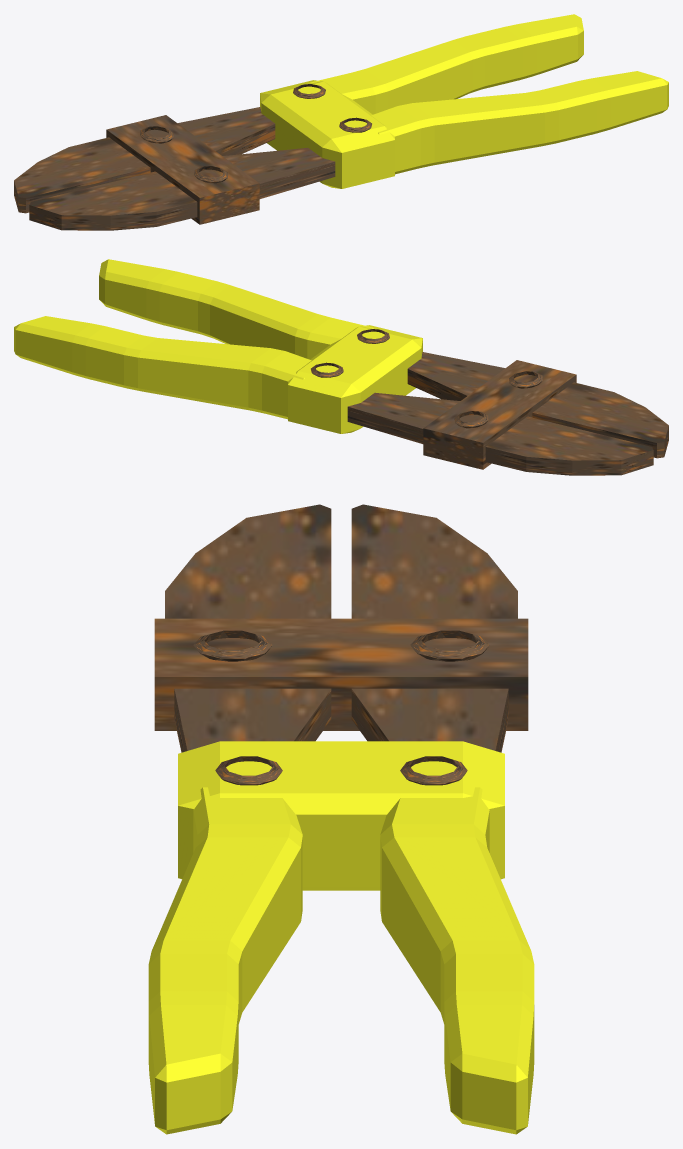
Rendered from BoltCutters.fbx.
The picture shows the model from 3 angles, top to bottom: view 1: azimuth 30°, elevation 25°; view 2: azimuth 150°, elevation 25°; view 3: azimuth 270°, elevation 25°; orthographic projection. The views are drawn at different scales.
Visible parts, largest first — view 1: Cube, Cube.001, Cube.003, Cube.002, Cube.004, Cube.005, Icosphere.002, Icosphere.003; view 2: Cube.001, Cube, Cube.004, Cube.002, Cube.003, Cube.005, Icosphere.003, Icosphere.002; view 3: Cube, Cube.001, Cube.005, Cube.002, Cube.003, Cube.004, Icosphere.002, Icosphere.003, Icosphere, Icosphere.001.
Boxes of the visible parts, x1,y1,x2,y2 form: Cube: (371, 71, 668, 174); Cube.001: (309, 14, 583, 114); Cube.003: (29, 147, 335, 230); Cube.002: (260, 80, 394, 188); Cube.004: (14, 107, 275, 213); Cube.005: (106, 115, 259, 224); Icosphere.002: (140, 126, 173, 143); Icosphere.003: (194, 166, 228, 183); Cube.001: (14, 316, 311, 419); Cube: (99, 259, 373, 359); Cube.004: (347, 392, 653, 475); Cube.002: (288, 325, 422, 433); Cube.003: (407, 352, 668, 458); Cube.005: (423, 360, 576, 469); Icosphere.003: (509, 371, 542, 388); Icosphere.002: (454, 411, 488, 428); Cube: (148, 787, 302, 1134); Cube.001: (380, 787, 534, 1134); Cube.005: (154, 618, 528, 730); Cube.002: (178, 741, 504, 890); Cube.003: (165, 504, 331, 752); Cube.004: (351, 504, 517, 752); Icosphere.002: (410, 630, 489, 661); Icosphere.003: (193, 630, 272, 661); Icosphere: (400, 756, 467, 785); Icosphere.001: (215, 756, 282, 785).
Bounding box in the file's own units: 751 × 61.89 × 209.
2 materials, 1 textured.
